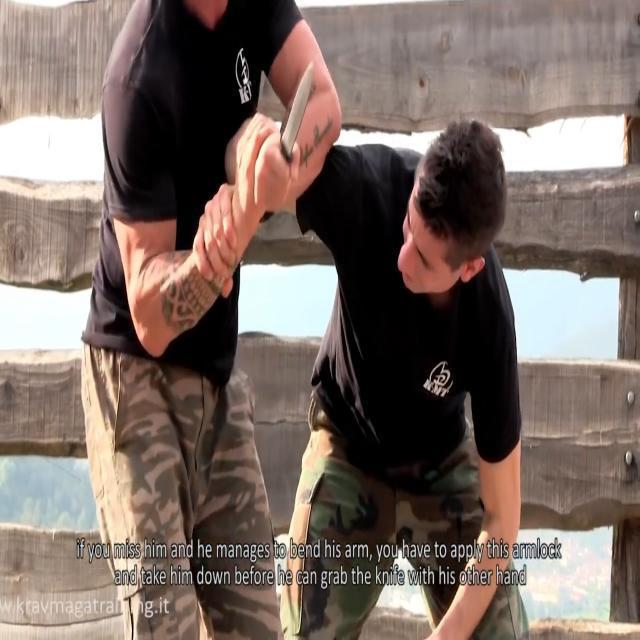-: (259, 49, 318, 196)
